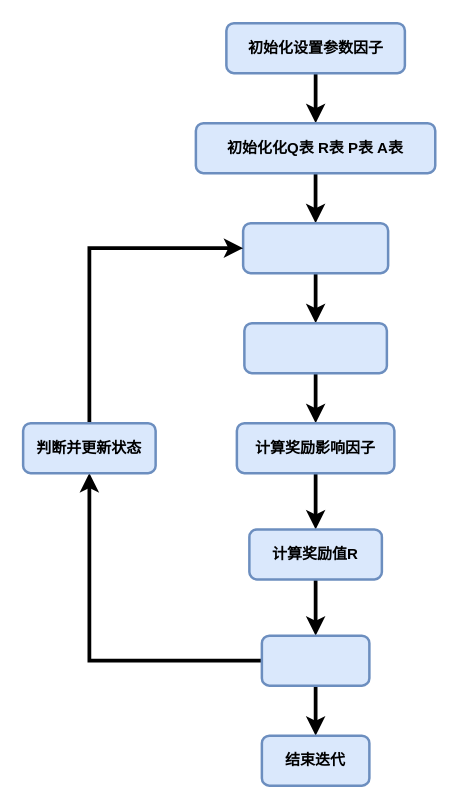
The diagram is 458 pixels wide and 808 high, and some of its shapes have lost their labels. Each missing label, with the centre of its shape:
"执行动作a" belongs at [315,347].
"更新表" belongs at [315,660].
"选择动作a" belongs at [315,247].
